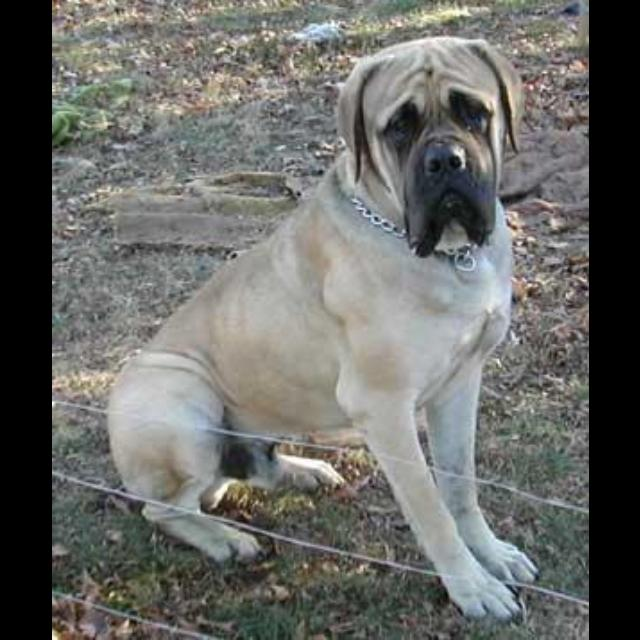bullmastiff: (105, 34, 540, 625)
